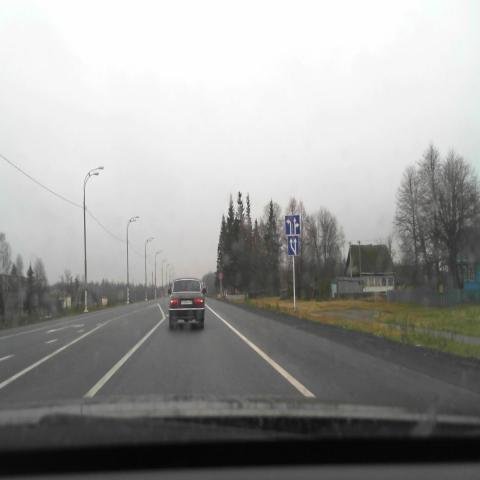5_15_2_2: (285, 216, 300, 236)
